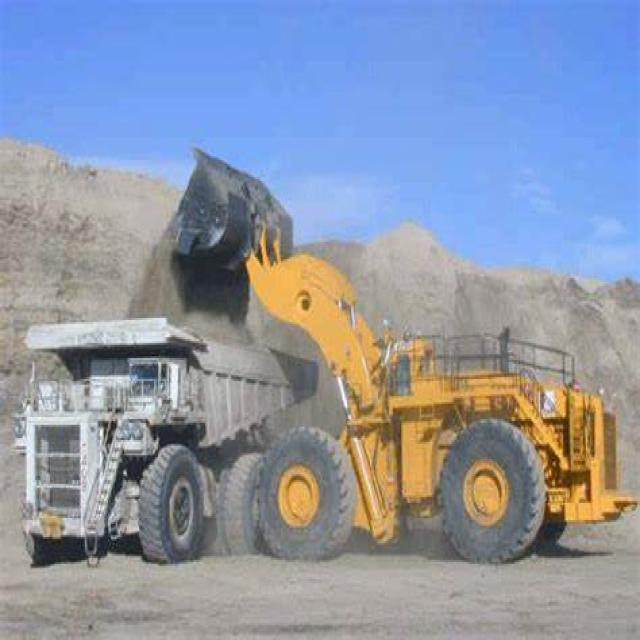buldozerpayloadergrader: (172, 139, 638, 585)
